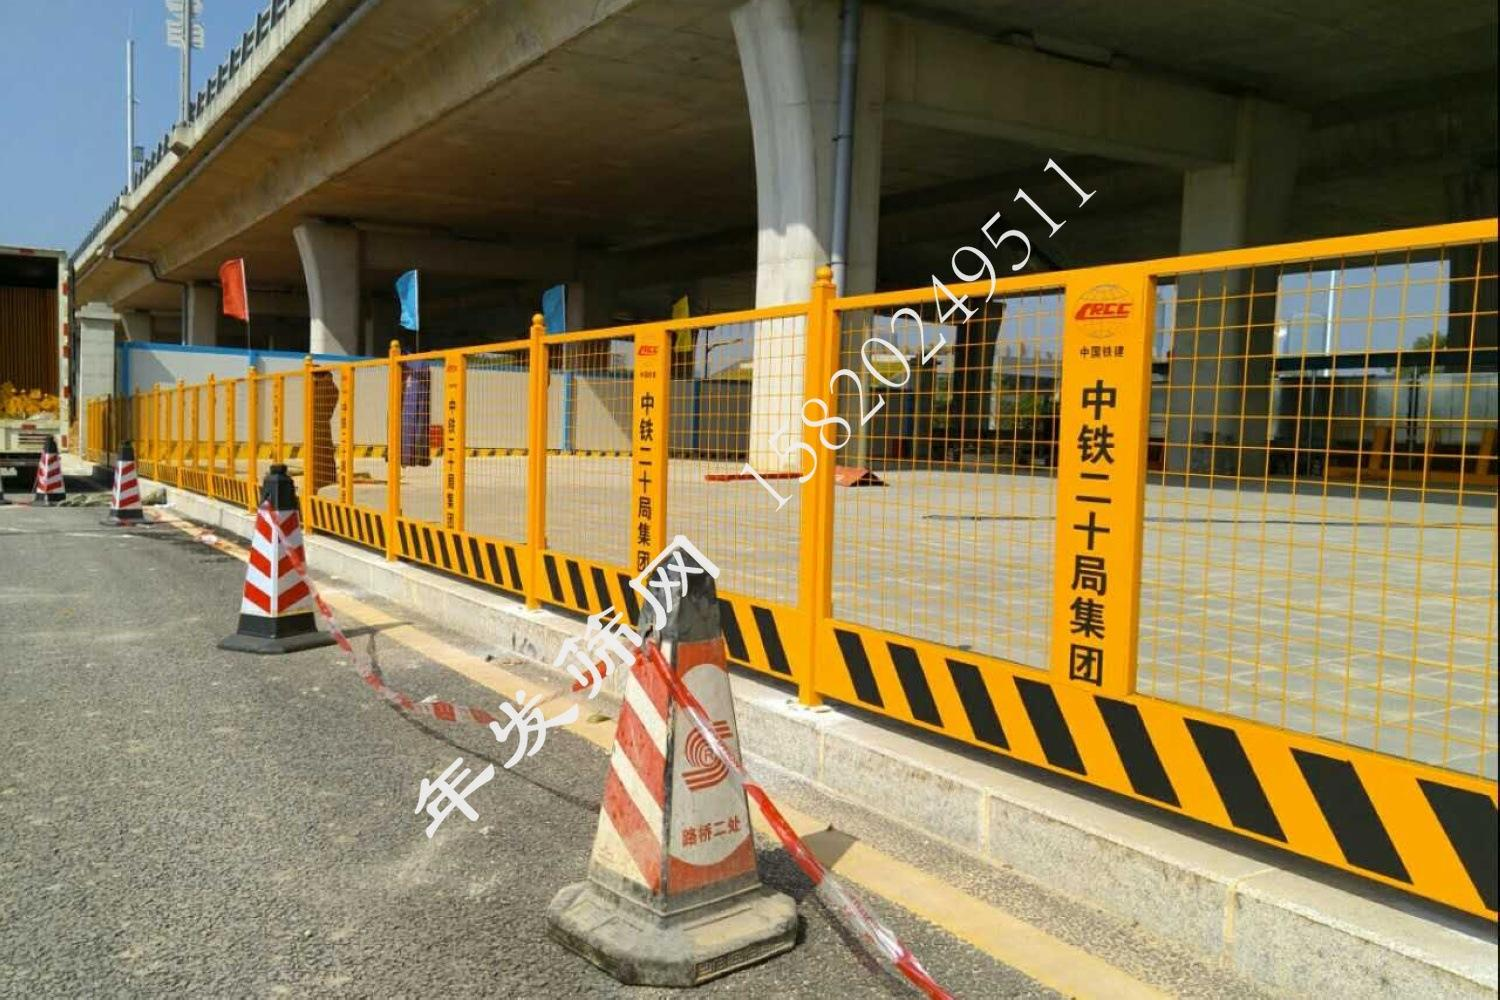sign: (775, 222, 1494, 868), (527, 271, 786, 684), (579, 560, 794, 979), (328, 334, 523, 599), (220, 469, 345, 661), (97, 443, 156, 538)
